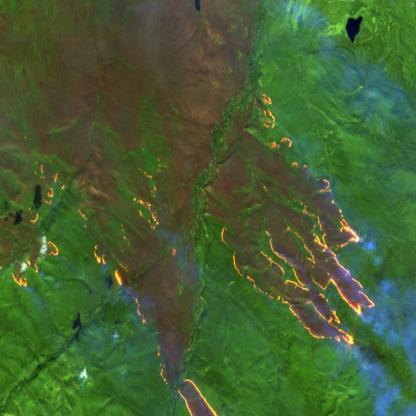fire: (220, 92, 377, 354), (13, 156, 181, 290), (158, 364, 223, 416)
